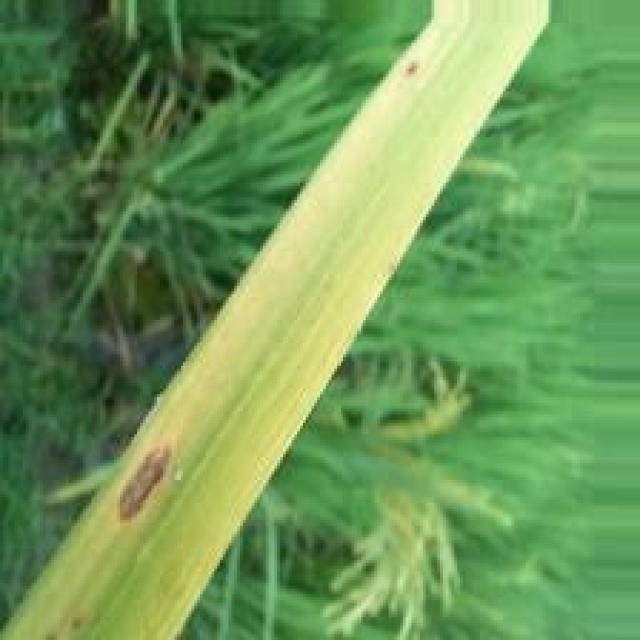Brown_Spot: (121, 438, 168, 525)
